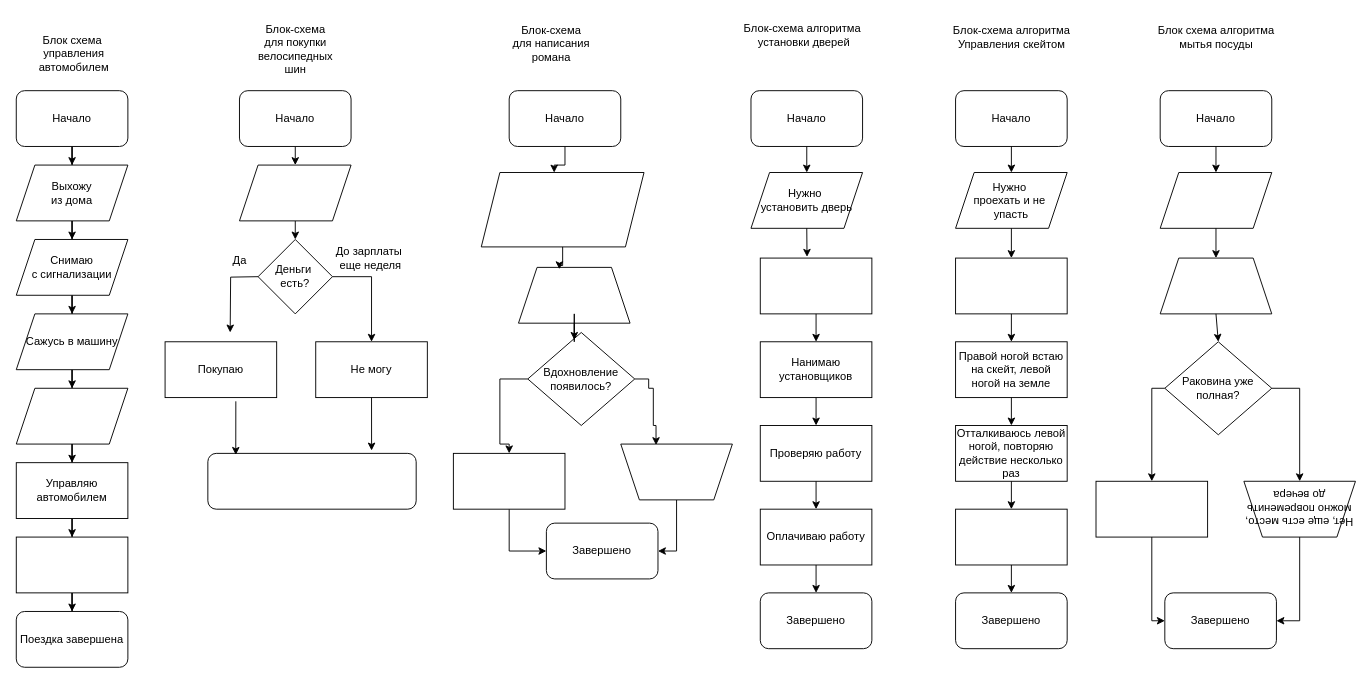
This 1372x684 diagram has some shape labels left out. The shapes that lost their labels are listed below. From the top down, each one's centre as x and y in pixels, then its label:
At [295,192]: "Хочу купить шины на велик".
At [562,209]: "Хочу написать роман, но чтобы написать нужно вдохновление".
At [1215,200]: "Нужно помыть посуду".
At [574,294]: "Пью кофе пока не вдохновлюсь".
At [815,285]: "Покупаю дверь".
At [1011,285]: "Ставлю скейт на твердую поверхность".
At [1215,285]: "Проверяю, насколько это неоюходимо".
At [71,415]: "Запускаю двигатель".
At [311,480]: "Выбор завершен".
At [508,480]: "Да,пошел сочинять".
At [676,471]: "Нет, кофе закончилось".
At [1151,508]: "Да, иду мыть".
At [1011,536]: "Торможу левой ногой".
At [71,564]: "Останавливаю автомобиль".
